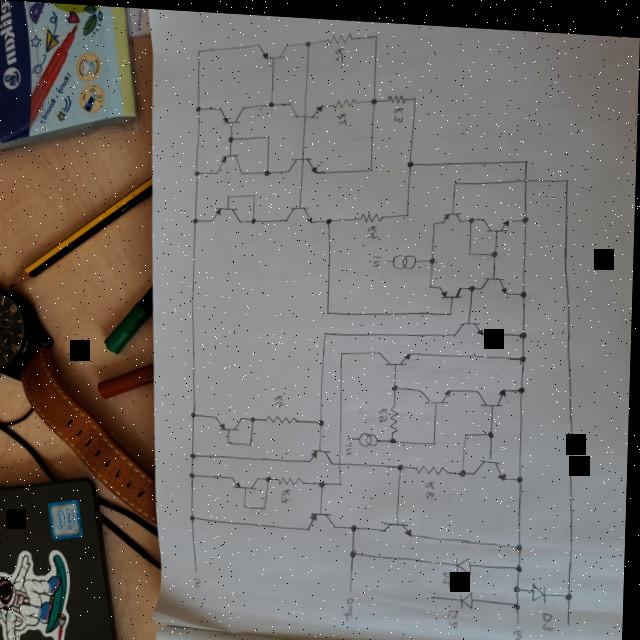crossover: (522, 170, 529, 177), (339, 456, 343, 462)
diode: (457, 550, 476, 571), (533, 576, 549, 597), (461, 584, 476, 604)
junction: (514, 577, 525, 587), (516, 536, 526, 547), (518, 323, 529, 333), (350, 543, 360, 554), (519, 347, 529, 357), (516, 468, 526, 478), (317, 413, 327, 423), (566, 584, 575, 595), (515, 557, 526, 566), (351, 518, 360, 528), (489, 243, 499, 252), (514, 595, 523, 605), (397, 457, 406, 466), (390, 431, 399, 440), (369, 91, 377, 101), (519, 282, 527, 292), (521, 208, 529, 218), (428, 251, 437, 259), (190, 511, 198, 520), (190, 468, 198, 477), (487, 424, 496, 432), (194, 102, 202, 111), (262, 165, 270, 174), (519, 379, 527, 388), (266, 96, 275, 104), (194, 44, 203, 52), (303, 36, 311, 45), (226, 132, 234, 141), (406, 154, 414, 162), (325, 213, 333, 221), (191, 214, 199, 222), (191, 408, 199, 416), (190, 449, 198, 457), (319, 476, 327, 484), (392, 379, 400, 387), (193, 167, 201, 175), (460, 463, 468, 471), (371, 28, 378, 36), (469, 279, 477, 286), (563, 170, 570, 177), (251, 214, 258, 221), (468, 211, 475, 218), (267, 471, 273, 479), (367, 162, 374, 168), (325, 305, 331, 312), (432, 434, 439, 440), (463, 426, 470, 432), (339, 476, 345, 483), (248, 438, 255, 444), (227, 436, 234, 442), (323, 326, 329, 332), (340, 346, 346, 352), (265, 130, 271, 136), (523, 152, 529, 158), (251, 413, 257, 419), (452, 174, 458, 180), (244, 500, 250, 506), (404, 207, 410, 213), (467, 245, 473, 251), (447, 305, 453, 311), (411, 90, 417, 96), (263, 502, 269, 508), (431, 214, 436, 221), (428, 279, 432, 283), (226, 192, 230, 196), (252, 190, 256, 194)
resistor: (414, 457, 451, 471), (329, 91, 357, 107), (266, 409, 300, 422), (324, 26, 352, 41), (274, 470, 306, 483), (389, 400, 402, 430), (358, 206, 385, 219), (385, 88, 406, 100)
terminal: (429, 587, 437, 596), (568, 612, 574, 620), (350, 580, 356, 588), (517, 612, 523, 619), (347, 430, 353, 437), (195, 565, 201, 571), (384, 254, 389, 258)
text: (345, 592, 358, 617), (544, 604, 557, 625), (425, 474, 438, 495), (514, 622, 528, 640), (391, 101, 403, 118), (282, 484, 294, 501), (449, 604, 460, 622), (365, 220, 379, 234), (444, 564, 454, 582), (378, 403, 390, 418), (345, 436, 356, 452), (333, 43, 343, 60), (274, 391, 286, 404), (372, 250, 383, 263), (337, 108, 347, 122), (195, 574, 205, 586)
transformer: (392, 249, 419, 264), (360, 427, 380, 443)
transistor: (210, 199, 244, 225), (472, 451, 509, 474), (307, 504, 340, 529), (288, 96, 324, 118), (253, 37, 288, 59), (287, 150, 320, 173), (419, 380, 455, 401), (215, 148, 243, 175), (284, 199, 316, 221), (454, 311, 487, 332), (377, 344, 413, 363), (230, 470, 264, 490), (382, 513, 416, 533), (476, 381, 508, 402), (217, 100, 246, 123), (479, 268, 510, 289), (215, 411, 244, 431), (310, 442, 336, 461), (482, 211, 510, 228), (439, 279, 463, 294), (442, 205, 462, 219)
